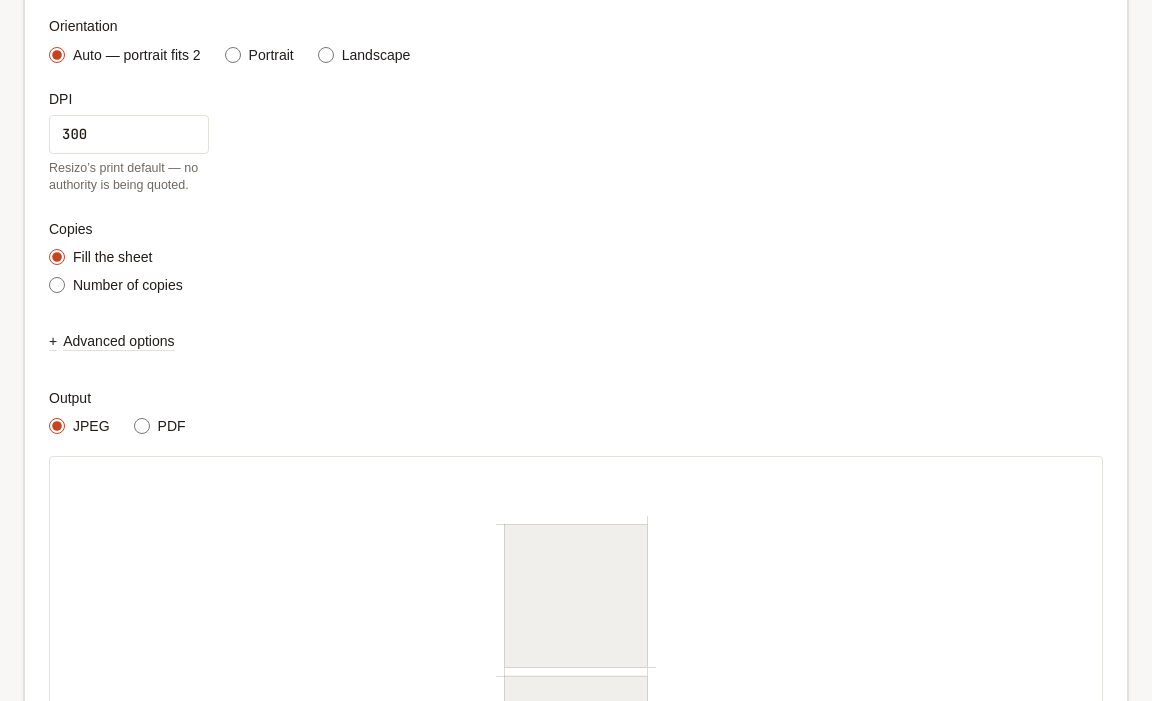
Test: Advanced options › is collapsed by default and reveals Margin, Spacing, Cut guides, the reference checkbox and Fill behaviour
(page scrolled)
Click the button "+ Advanced options".
click(112, 342)  # box [49,320,174,364]
(page scrolled)
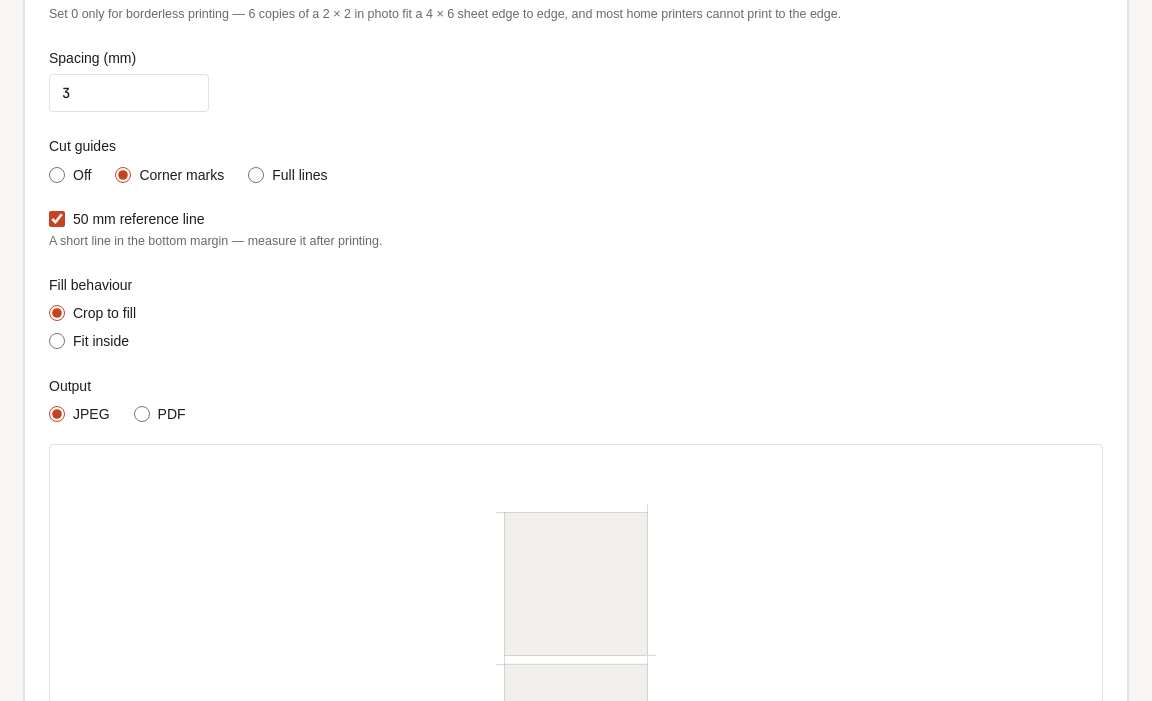
Now the number field with id "sheet-gap" holds "3", box [49,74,209,112]
Now the radio button labelled "Off" is shown, box [49,167,65,183]
Now the radio button labelled "Corner marks" is checked, box [115,167,131,183]
